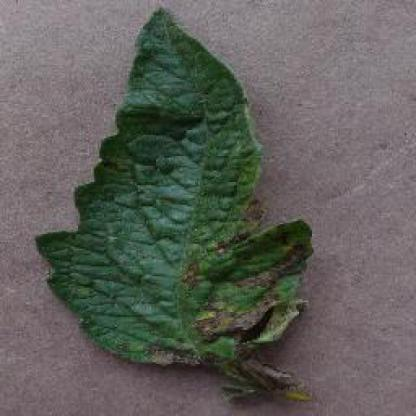Tomato_Blight: (32, 12, 309, 399)
